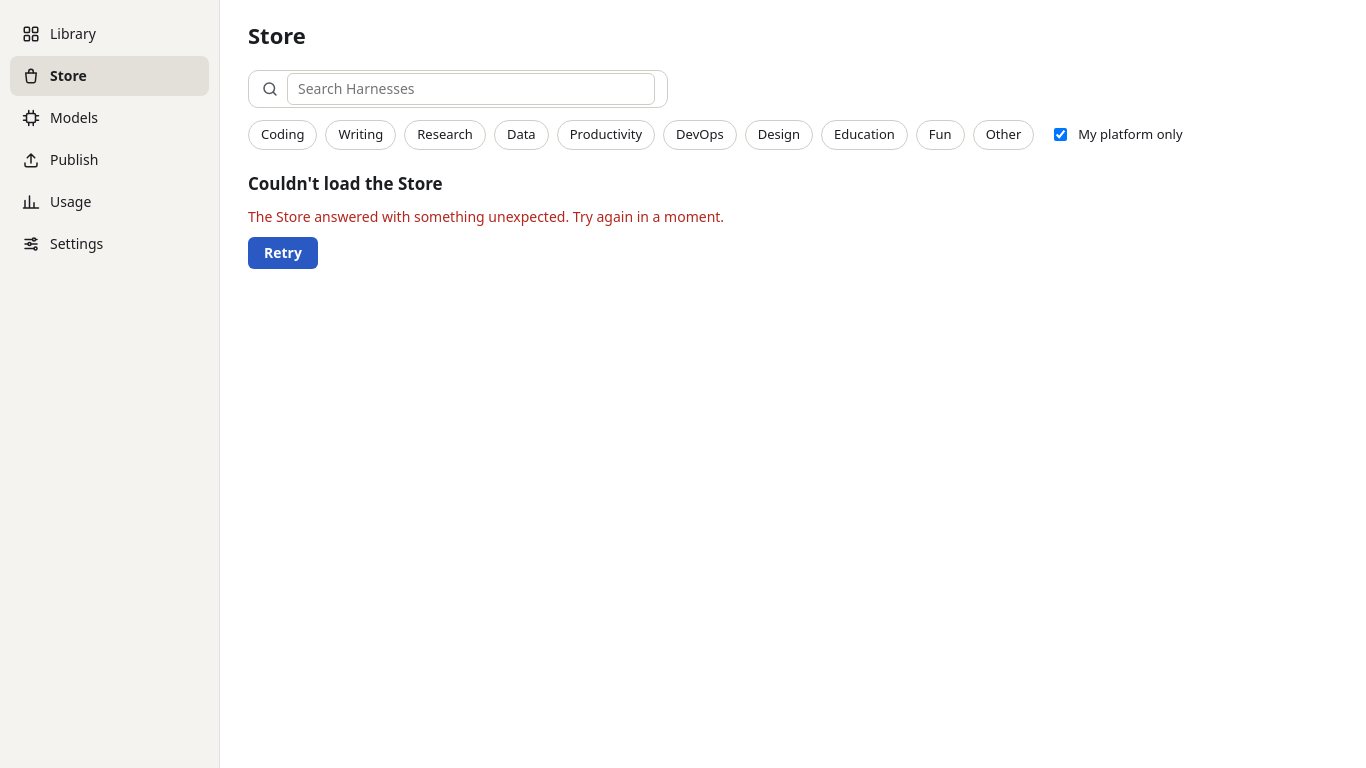
it: Store home › shows a server error inline with Retry, which reads the Store again
Check: the message reads "The Store answered with something unexpected. Try again in a moment.", box top-left (248, 206), bottom-right (724, 226)
Click the button "Retry" at (283, 253), box top-left (248, 237), bottom-right (318, 269)
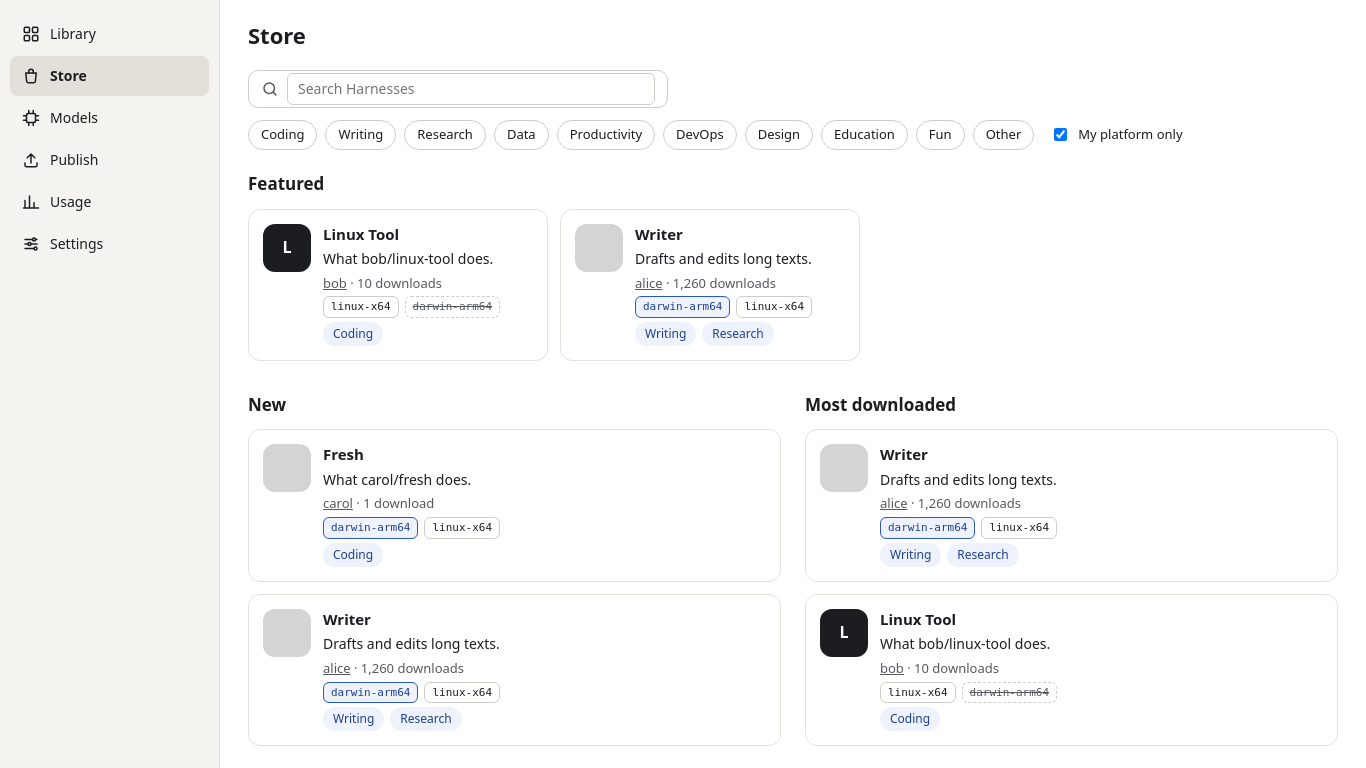
Check: the element named "Loading the Store" is shown, box top-left (248, 172), bottom-right (1338, 746)
